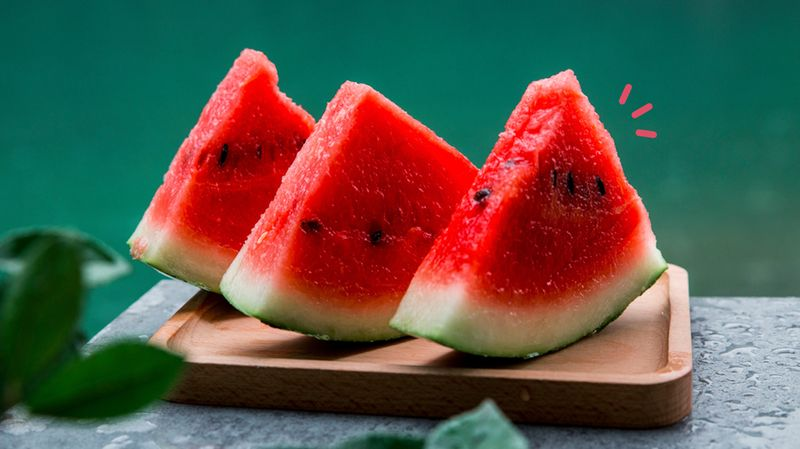Semangka: (396, 84, 636, 368), (265, 58, 482, 340), (130, 57, 327, 281)
